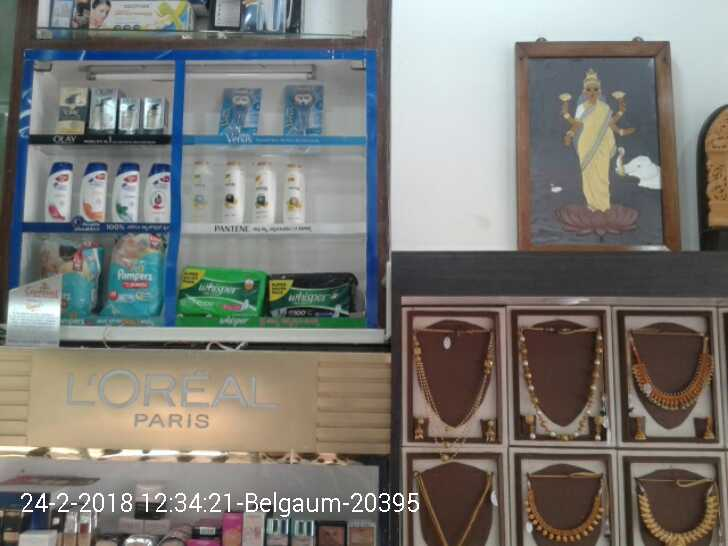venus: (283, 86, 322, 136), (222, 90, 262, 134)
